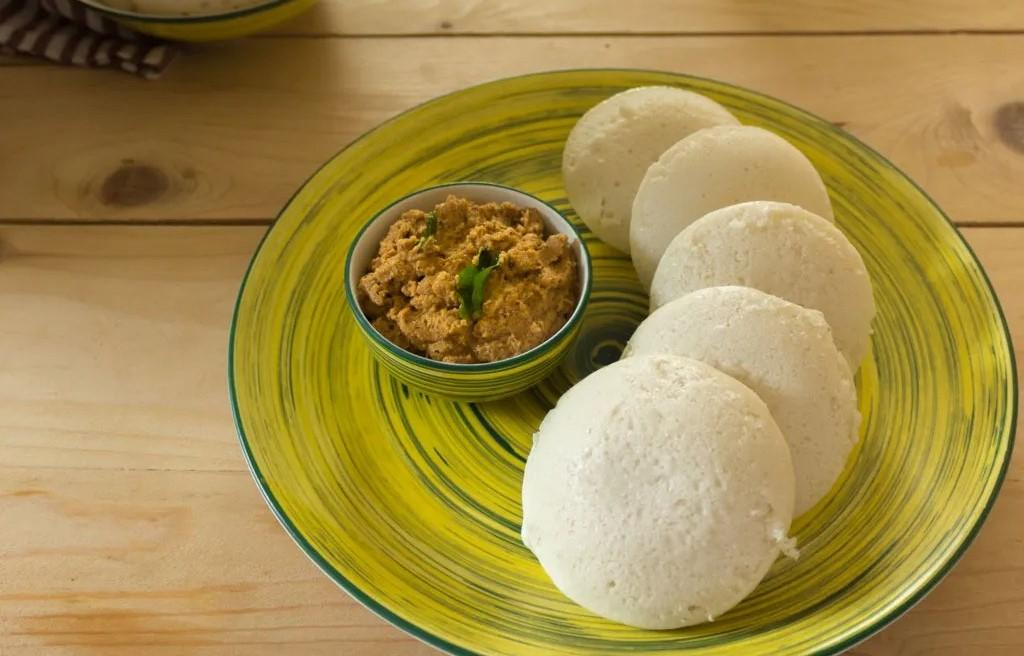Idli: (521, 361, 794, 632), (621, 287, 860, 522), (645, 201, 866, 379), (629, 125, 831, 291), (566, 82, 747, 252)
